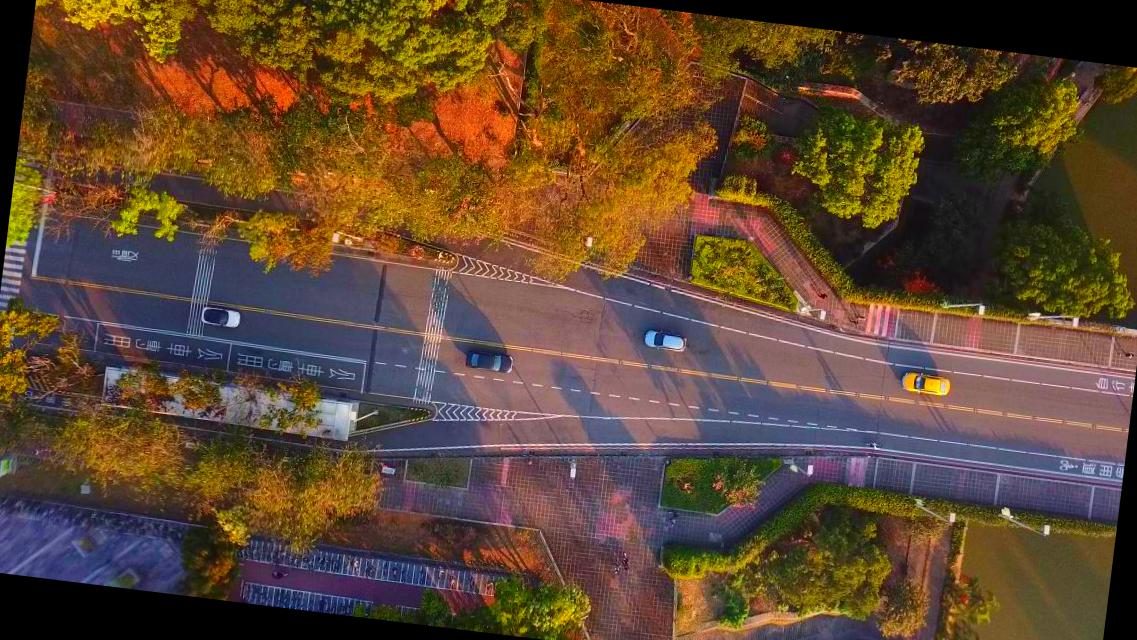vehicle: (899, 370, 950, 398), (465, 348, 514, 374), (642, 326, 686, 354), (199, 304, 241, 329)
